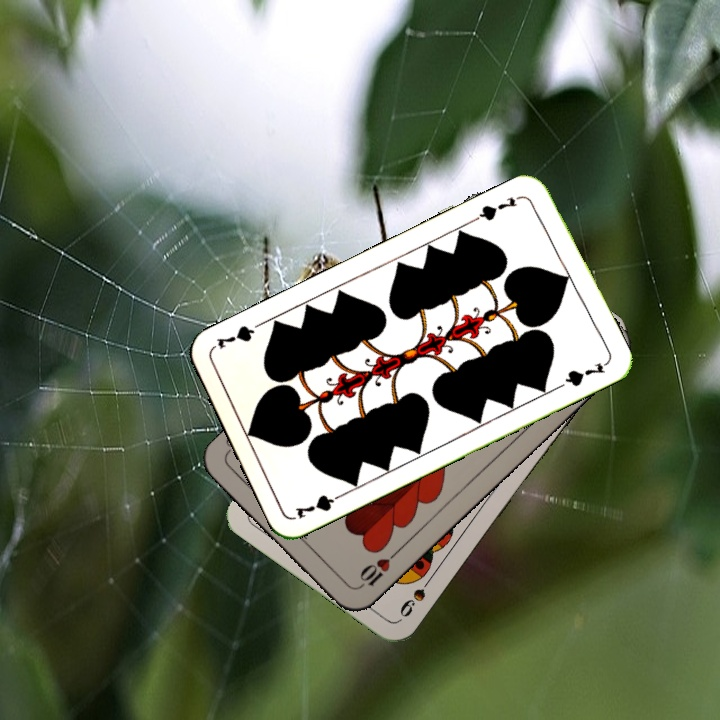G7: (291, 488, 348, 521), (470, 191, 526, 224)
H10: (352, 547, 400, 592)
S9: (395, 570, 437, 620)
